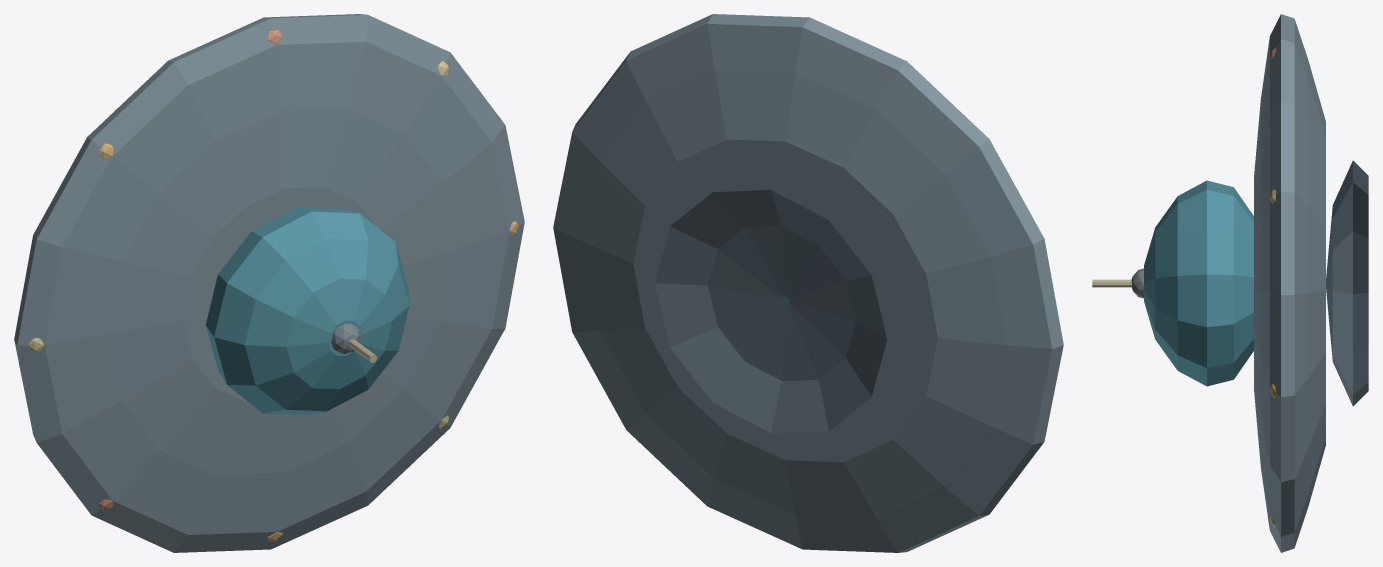
Rendered from ufoOld.glb.
The picture shows the model from 3 angles, left to right: view 1: azimuth 30°, elevation 25°; view 2: azimuth 150°, elevation 25°; view 3: azimuth 270°, elevation 25°; orthographic projection. The views are drawn at different scales.
Visible parts, largest first — view 1: Saucer_Hull, Cockpit_Dome, Antenna_Base; view 2: Saucer_Hull, Underside; view 3: Saucer_Hull, Cockpit_Dome, Underside, Antenna.
Part boxes in pixels (x1,y1,x2,y2): Saucer_Hull: (14,14,524,552); Cockpit_Dome: (206,207,409,415); Antenna_Base: (331,323,361,354); Saucer_Hull: (553,14,1063,552); Underside: (654,190,886,433); Saucer_Hull: (1254,14,1325,552); Cockpit_Dome: (1144,180,1253,386); Underside: (1326,160,1368,406); Antenna: (1092,279,1131,287).
Bounding box in the file's own units: 2.4 × 2.4 × 1.23.
